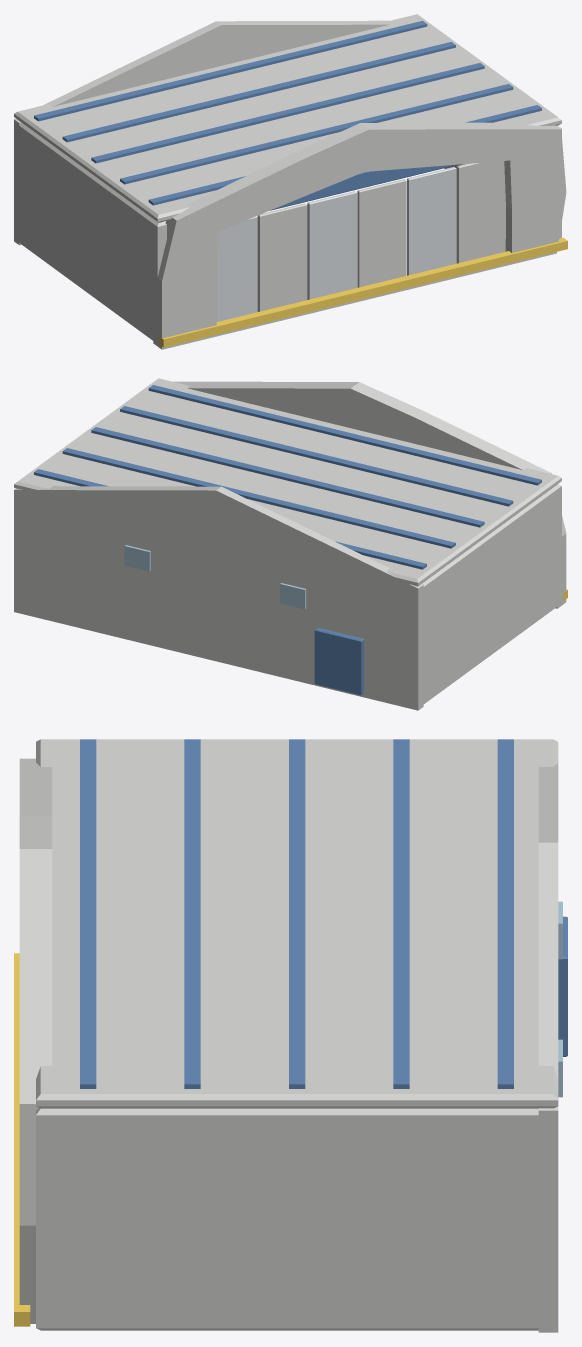
File: hangar.glb
3 renders of one model, top to bottom at view 1: azimuth 30°, elevation 25°; view 2: azimuth 150°, elevation 25°; view 3: azimuth 270°, elevation 25°, orthographic. The views are drawn at different scales.
Visible parts, largest first — view 1: hangar-frontage; view 2: hangar-frontage; view 3: hangar-frontage.
Part boxes in pixels (x1,y1,x2,y2): hangar-frontage: (14,14,567,349); hangar-frontage: (14,378,567,710); hangar-frontage: (14,739,567,1332).
Bounding box in the file's own units: 26 × 10.5 × 16.97.
